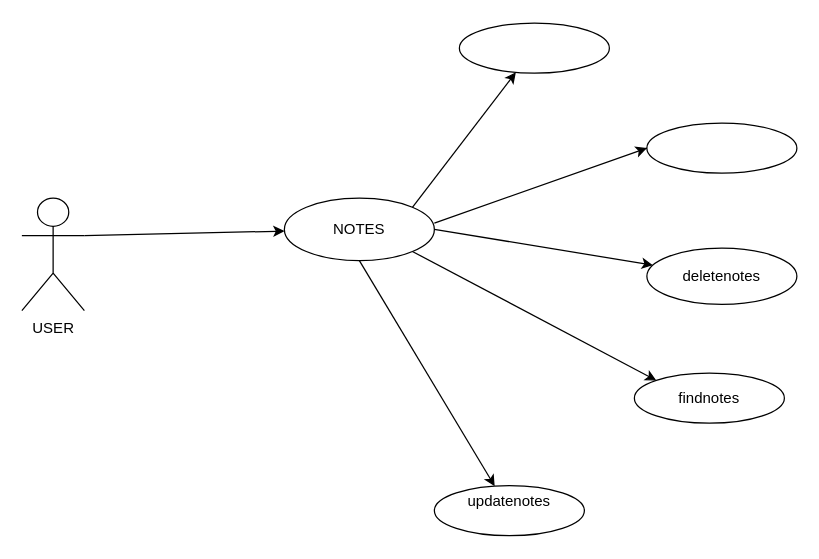
The diagram is 819 pixels wide and 559 high, and some of its shapes have lost their labels. The shapes that lost their labels are listed below. From the top down, each one's centre as x and y in pixels, then its label:
At pixel 533 47: "create notes".
At pixel 721 147: "addnotes".
